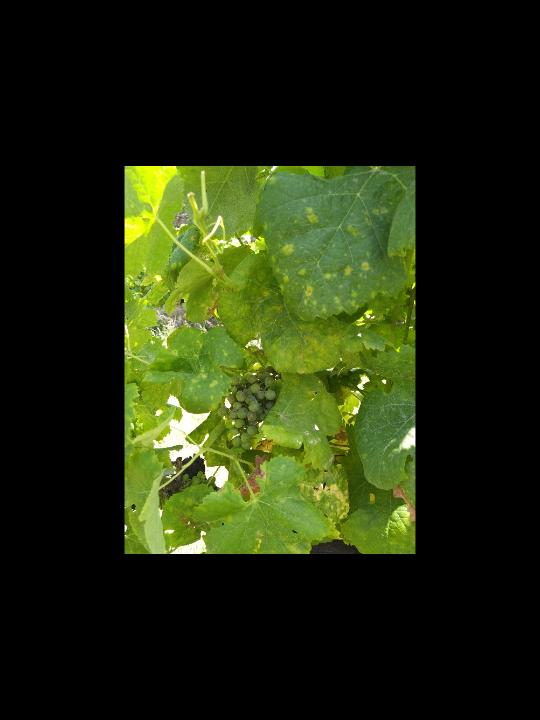grape: (216, 361, 278, 452)
